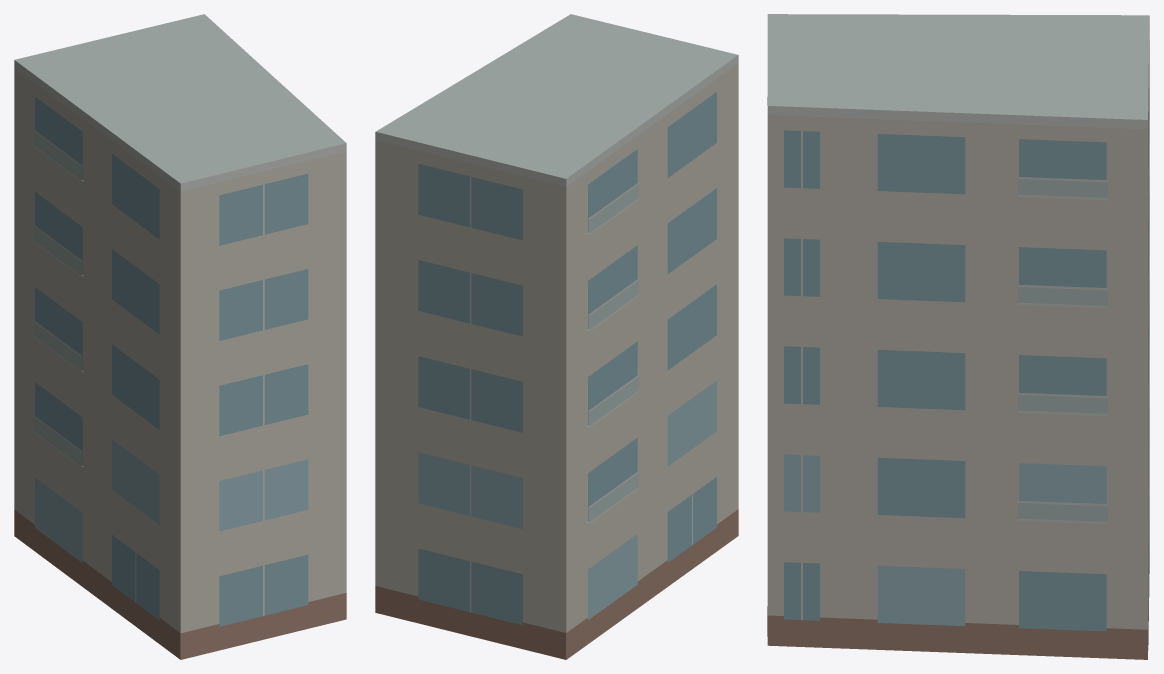
The model's file is survey-upis-32714871.glb.
The picture shows the model from 3 angles, left to right: view 1: azimuth 30°, elevation 25°; view 2: azimuth 150°, elevation 25°; view 3: azimuth 270°, elevation 25°; orthographic projection. The views are drawn at different scales.
Visible parts, largest first — view 1: survey-upis-32714871.tmp; view 2: survey-upis-32714871.tmp; view 3: survey-upis-32714871.tmp.
Boxes of the visible parts, bbox=[...] form: survey-upis-32714871.tmp: bbox=[14, 14, 346, 659]; survey-upis-32714871.tmp: bbox=[375, 14, 738, 659]; survey-upis-32714871.tmp: bbox=[767, 14, 1149, 659].
Bounding box in the file's own units: 6.08 × 14.4 × 9.25.
